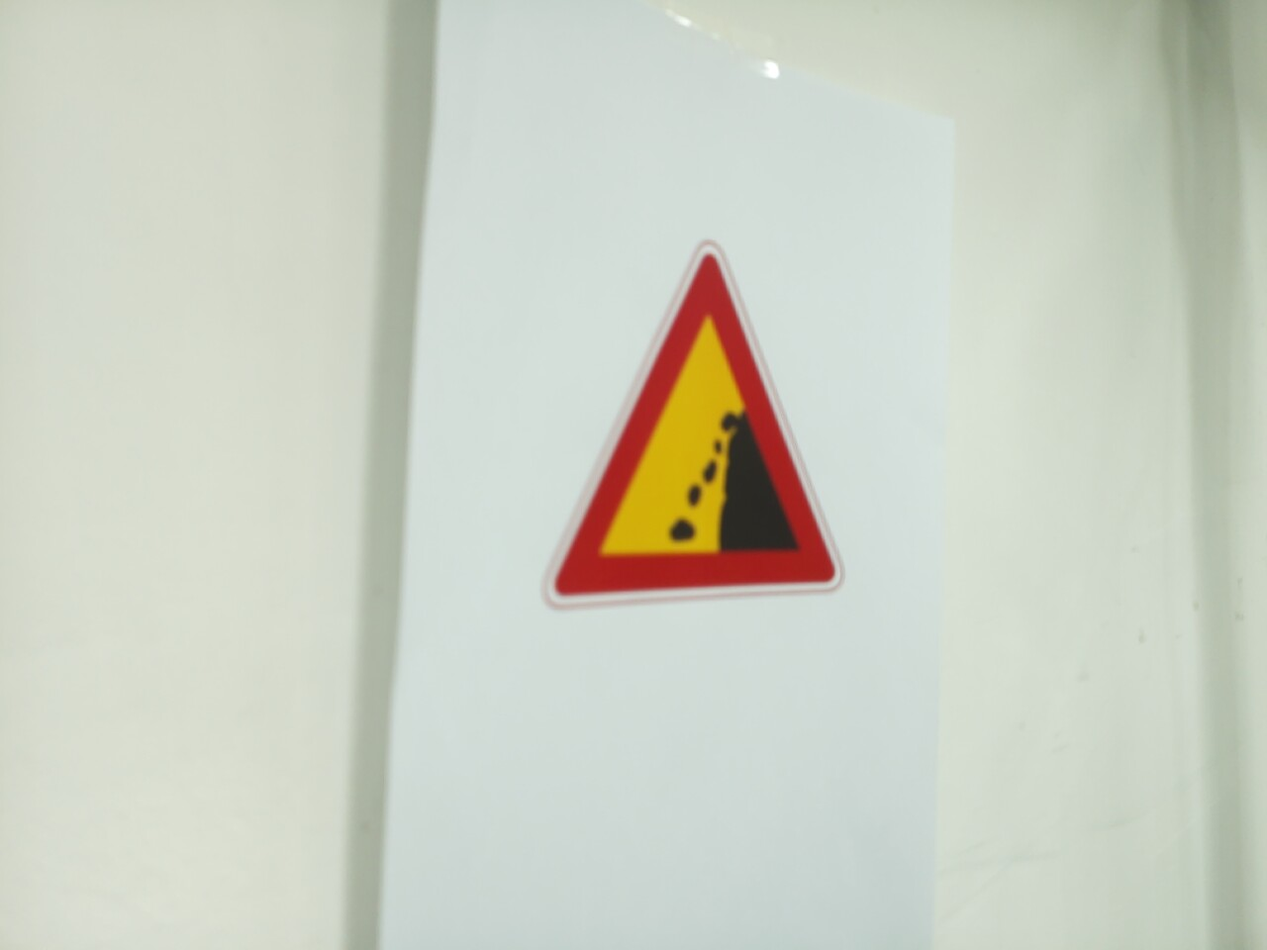falling_rocks: (546, 243, 844, 607)
